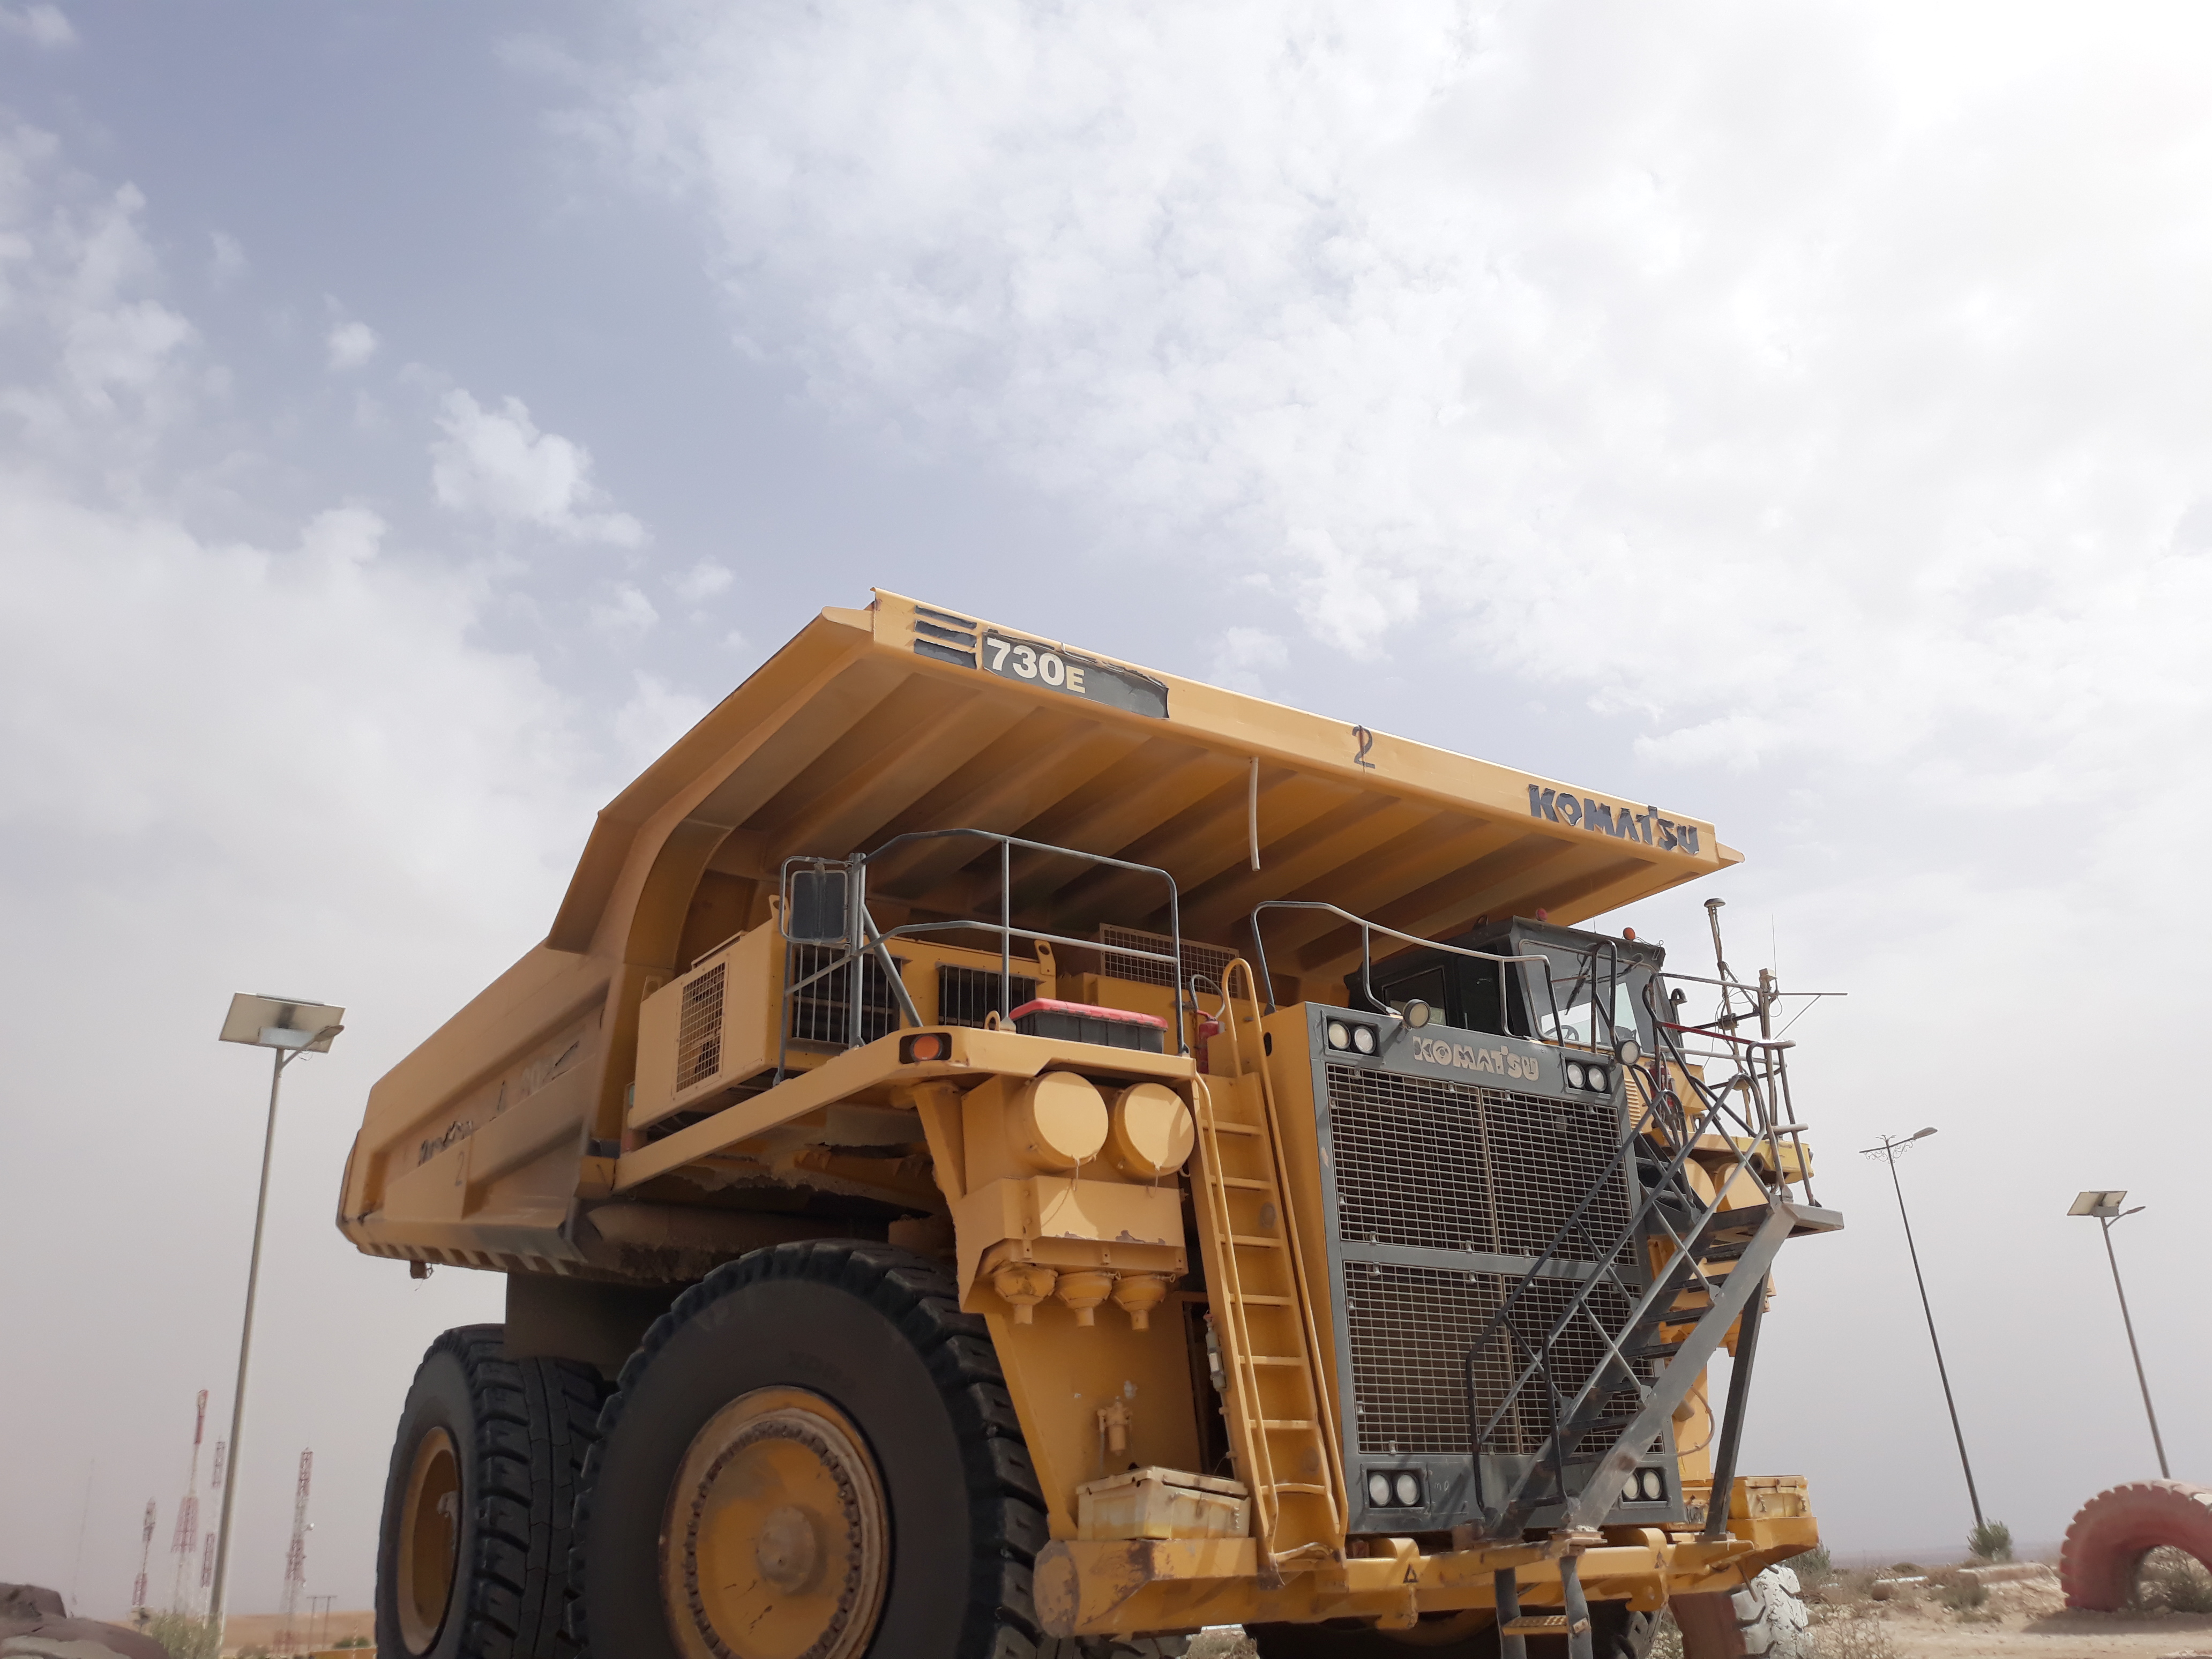camion: (336, 579, 1850, 1659)
